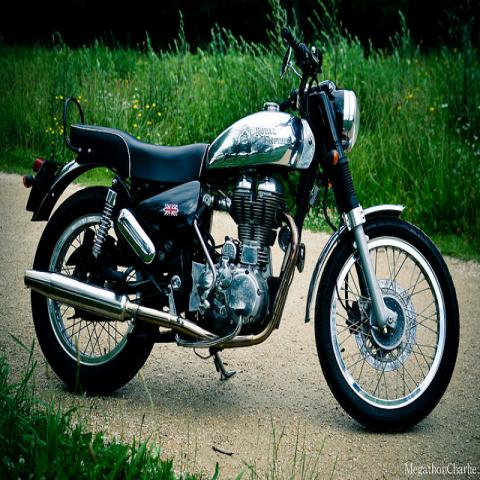motorcycle: (23, 20, 461, 428)
